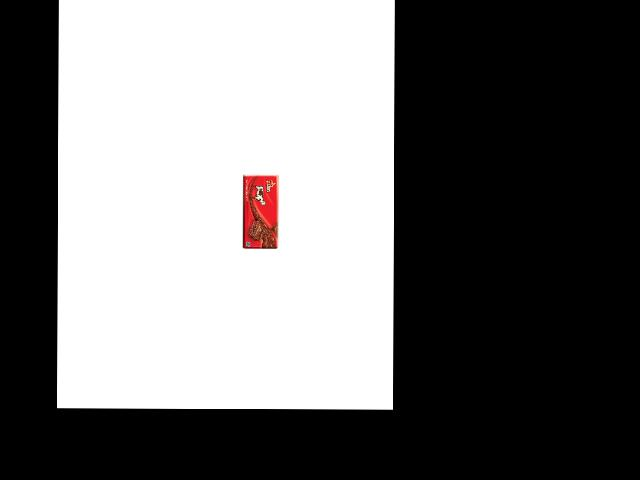chocolate: (238, 172, 279, 250)
